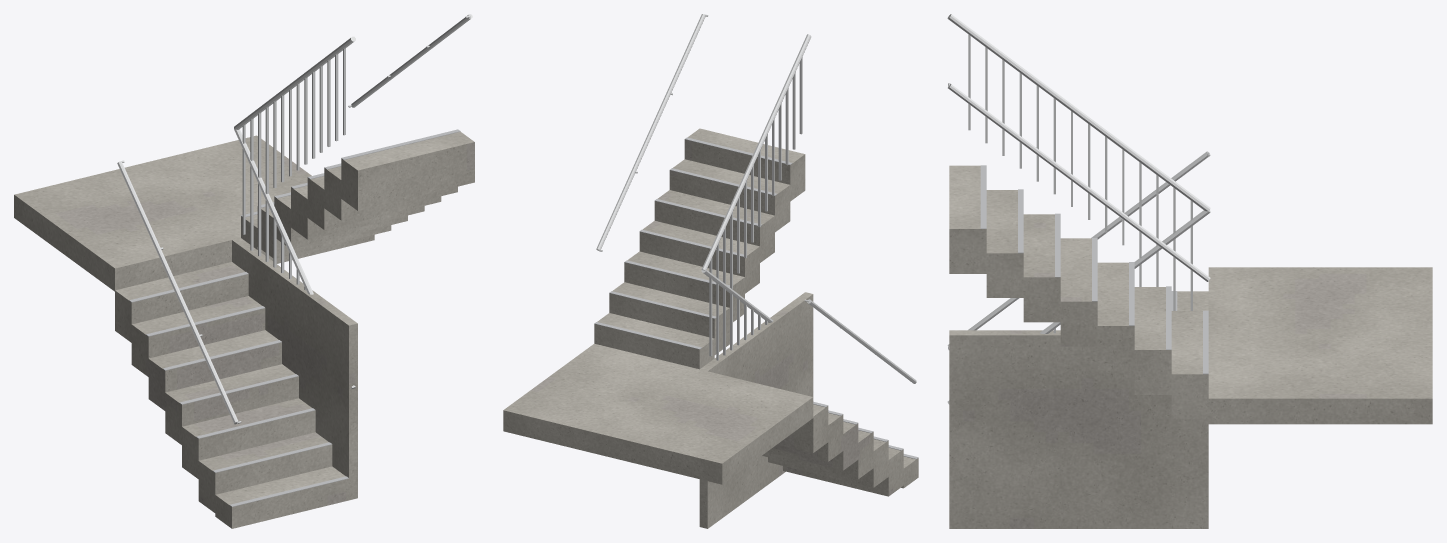
The model's file is stair_tower.glb.
The picture shows the model from 3 angles, left to right: view 1: azimuth 30°, elevation 25°; view 2: azimuth 150°, elevation 25°; view 3: azimuth 270°, elevation 25°; orthographic projection. The views are drawn at different scales.
Visible parts, largest first — view 1: stair_tower_concrete, stair_tower_steel, stair_tower_band; view 2: stair_tower_concrete, stair_tower_steel, stair_tower_band; view 3: stair_tower_concrete, stair_tower_steel, stair_tower_band.
Boxes of the visible parts, x1,y1,x2,y2 form: stair_tower_concrete: (14,131,474,528); stair_tower_steel: (117,14,472,424); stair_tower_band: (129,129,460,506); stair_tower_concrete: (503,128,918,528); stair_tower_steel: (596,14,916,383); stair_tower_band: (594,137,918,459); stair_tower_concrete: (949,165,1432,528); stair_tower_steel: (947,14,1210,404); stair_tower_band: (980,165,1208,374).
Bounding box in the file's own units: 2.18 × 3.97 × 3.4.
3 materials, 1 textured.
